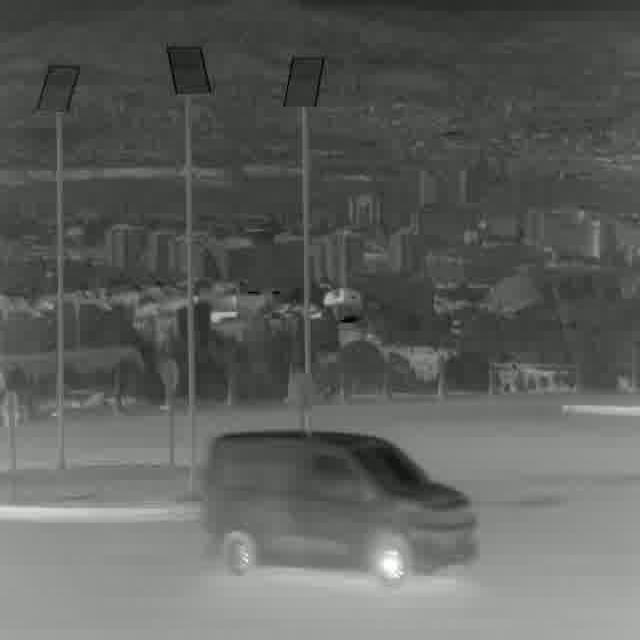Car: (204, 432, 480, 588)
